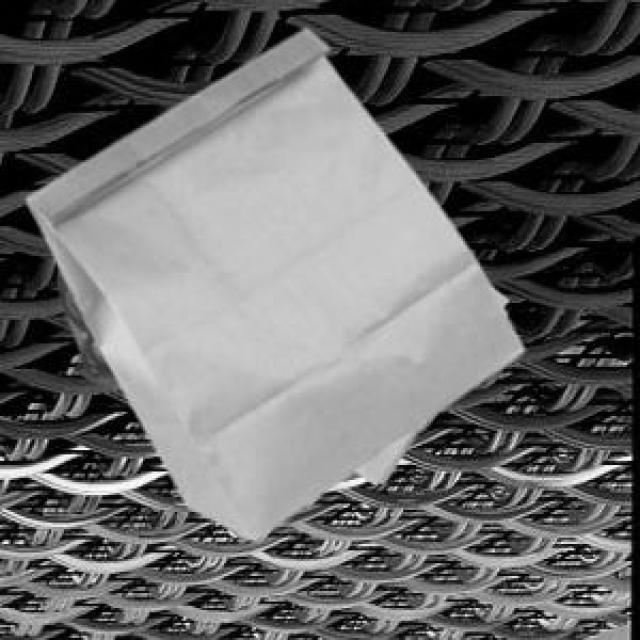paper: (24, 26, 518, 536), (350, 286, 504, 480)
